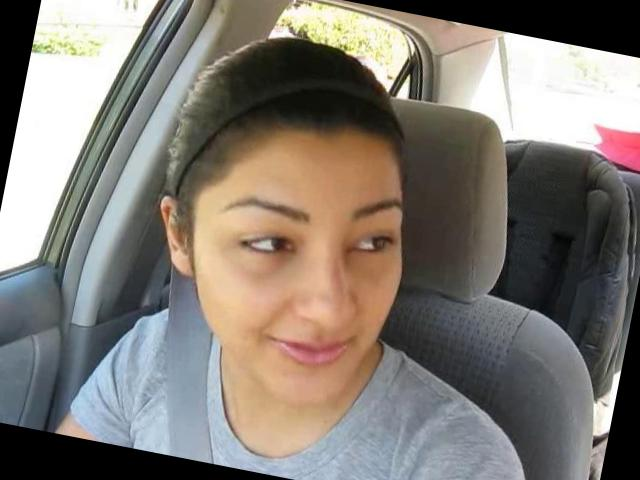eye_open: (230, 220, 305, 269), (340, 220, 398, 268)
face: (158, 152, 422, 431)
